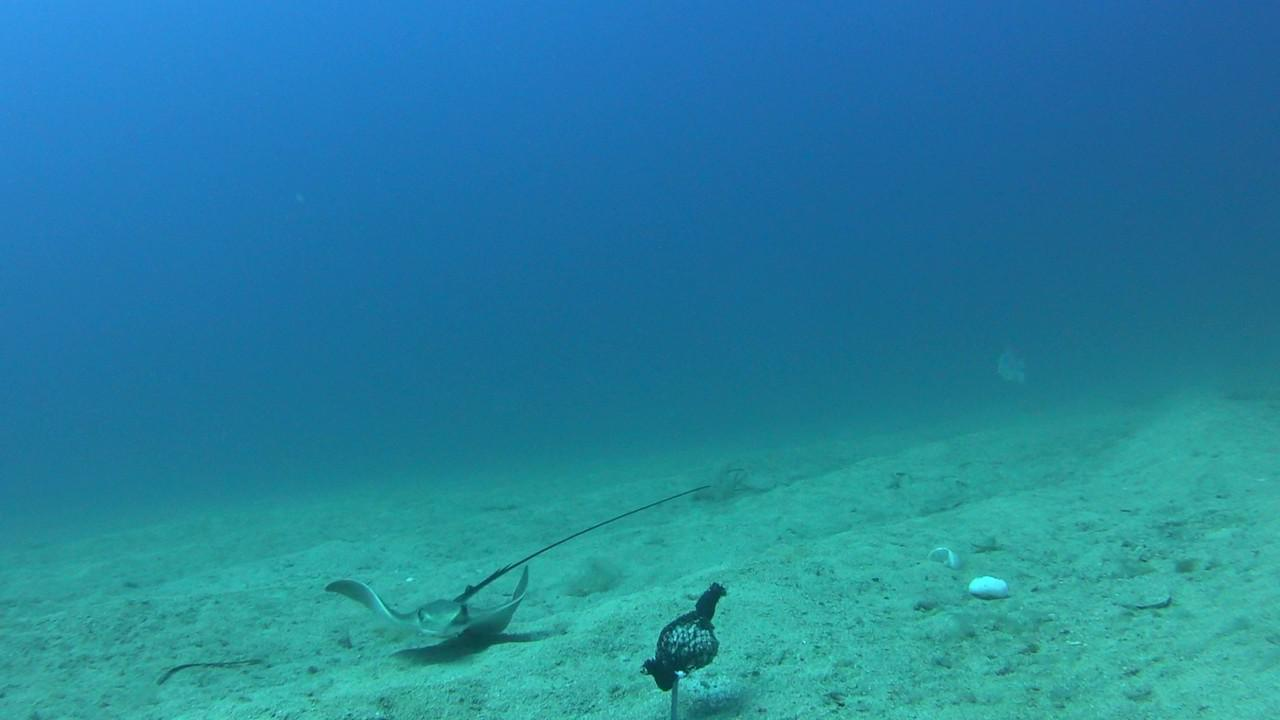myliobatis: (294, 463, 721, 636)
